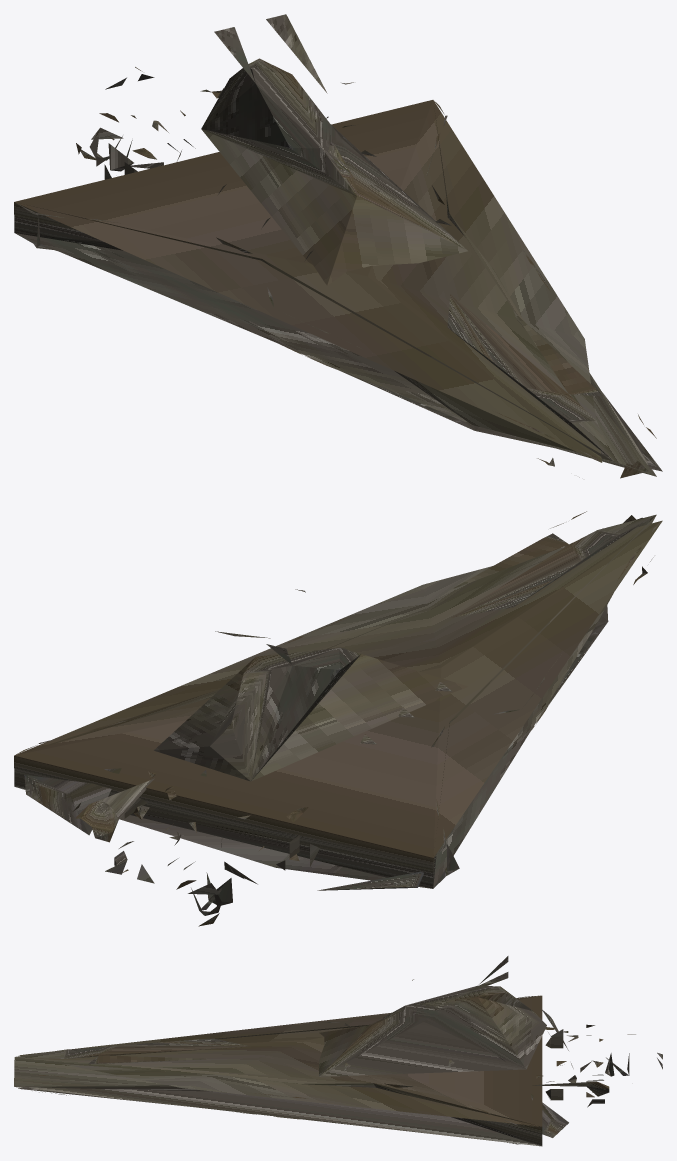
3 renders of one model, top to bottom at view 1: azimuth 30°, elevation 25°; view 2: azimuth 150°, elevation 25°; view 3: azimuth 270°, elevation 25°, orthographic. The views are drawn at different scales.
Visible parts, largest first — view 1: venator_bridge_Venator Bridge_0; view 2: venator_bridge_Venator Bridge_0; view 3: venator_bridge_Venator Bridge_0.
Part boxes in pixels (left/top/right/bottom): venator_bridge_Venator Bridge_0: left=14, top=14, right=662, bottom=478; venator_bridge_Venator Bridge_0: left=14, top=511, right=662, bottom=926; venator_bridge_Venator Bridge_0: left=14, top=956, right=662, bottom=1146.
Size of the model in its own units: 5870190 by 2820586 by 1.22e+07.
1 material, 1 textured.
